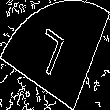L_SW: (35, 25, 75, 85)
